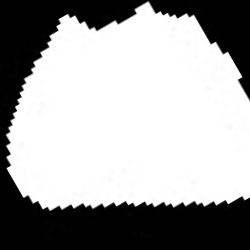spot: (6, 3, 248, 208)
